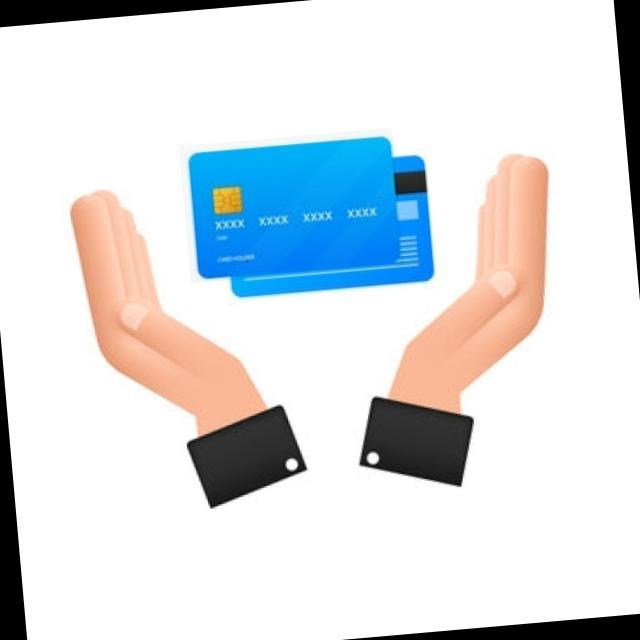payment_card: (186, 134, 402, 280)
